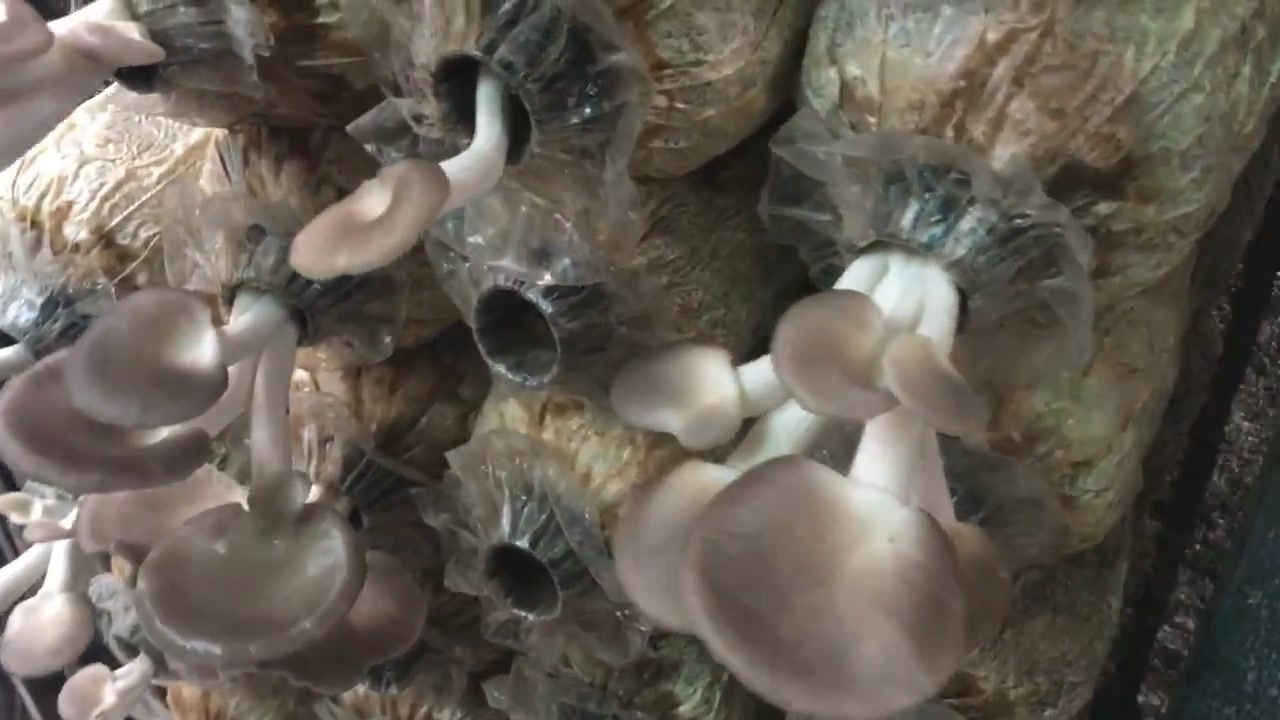nam: (610, 192, 1020, 720), (1, 242, 367, 666), (291, 5, 582, 289), (1, 492, 95, 673)
